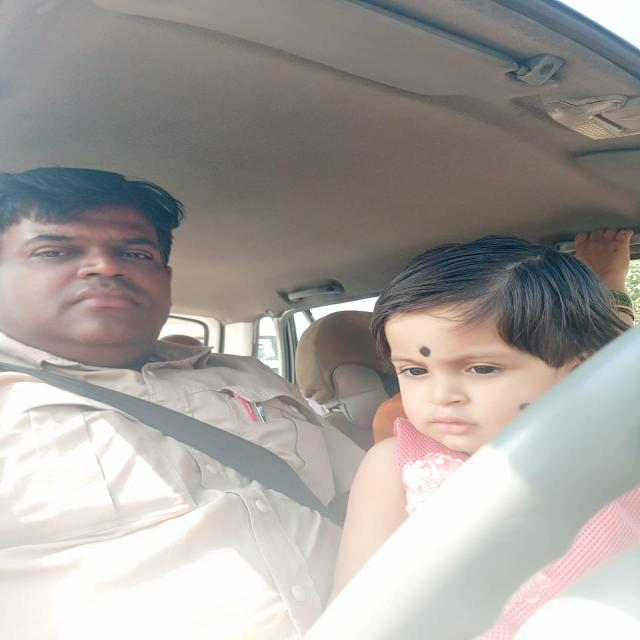child: (378, 233, 626, 475)
person: (2, 148, 196, 384)
